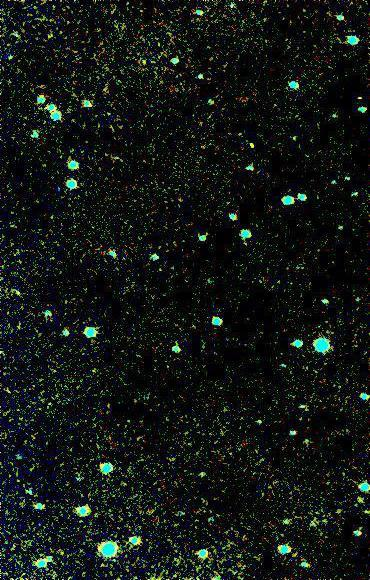star: (234, 131, 264, 161)
